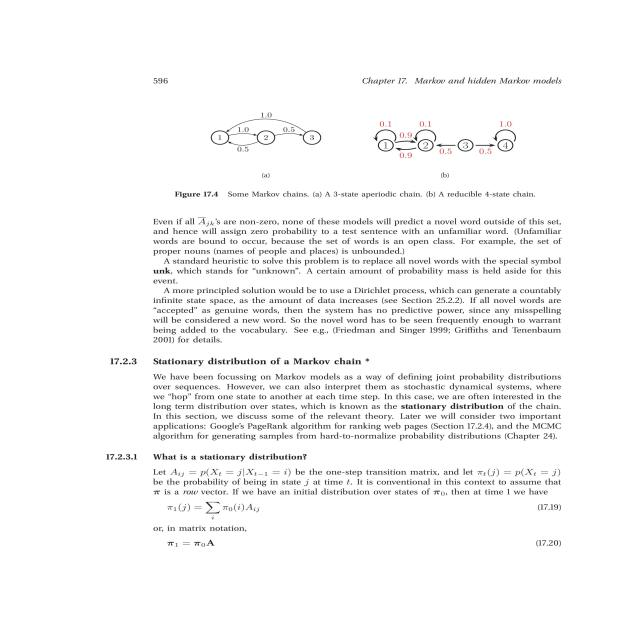diagram: (131, 90, 586, 212)
